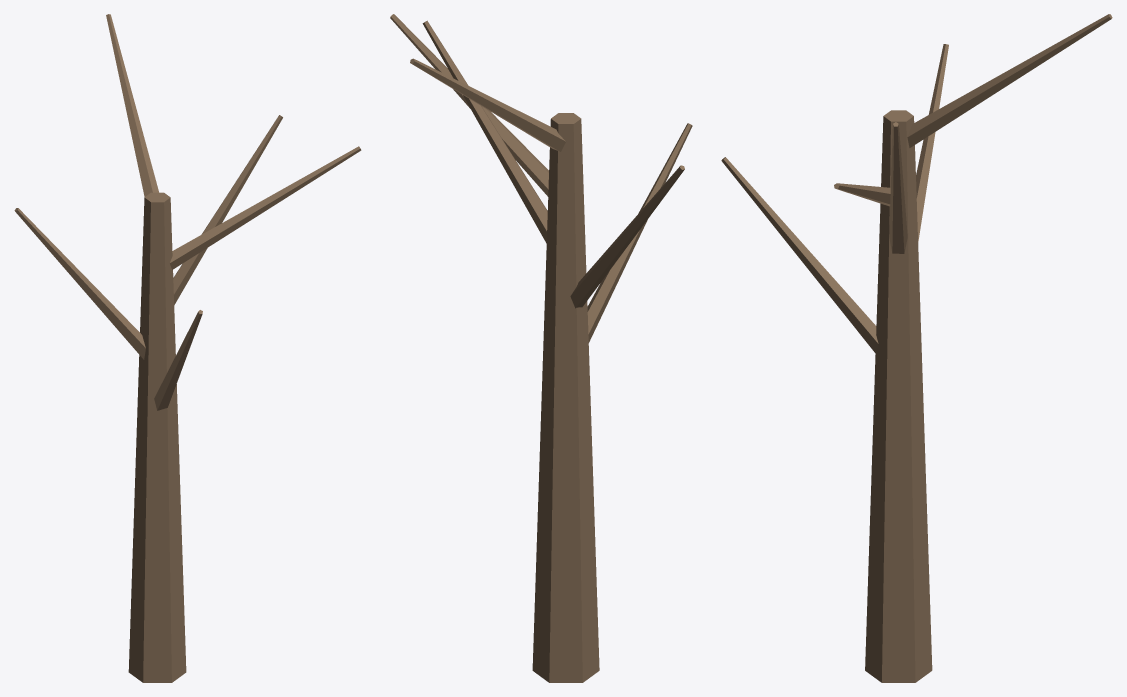
File: dead_tree.glb
The picture shows the model from 3 angles, left to right: view 1: azimuth 30°, elevation 25°; view 2: azimuth 150°, elevation 25°; view 3: azimuth 270°, elevation 25°; orthographic projection. The views are drawn at different scales.
Parts seen in each view (by area): view 1: dead_tree; view 2: dead_tree; view 3: dead_tree.
Part boxes in pixels (bbox=[...]): dead_tree: bbox=[14, 14, 361, 682]; dead_tree: bbox=[390, 14, 692, 682]; dead_tree: bbox=[721, 14, 1112, 682].
Size of the model in its own units: 2.64 by 4.91 by 2.56.
